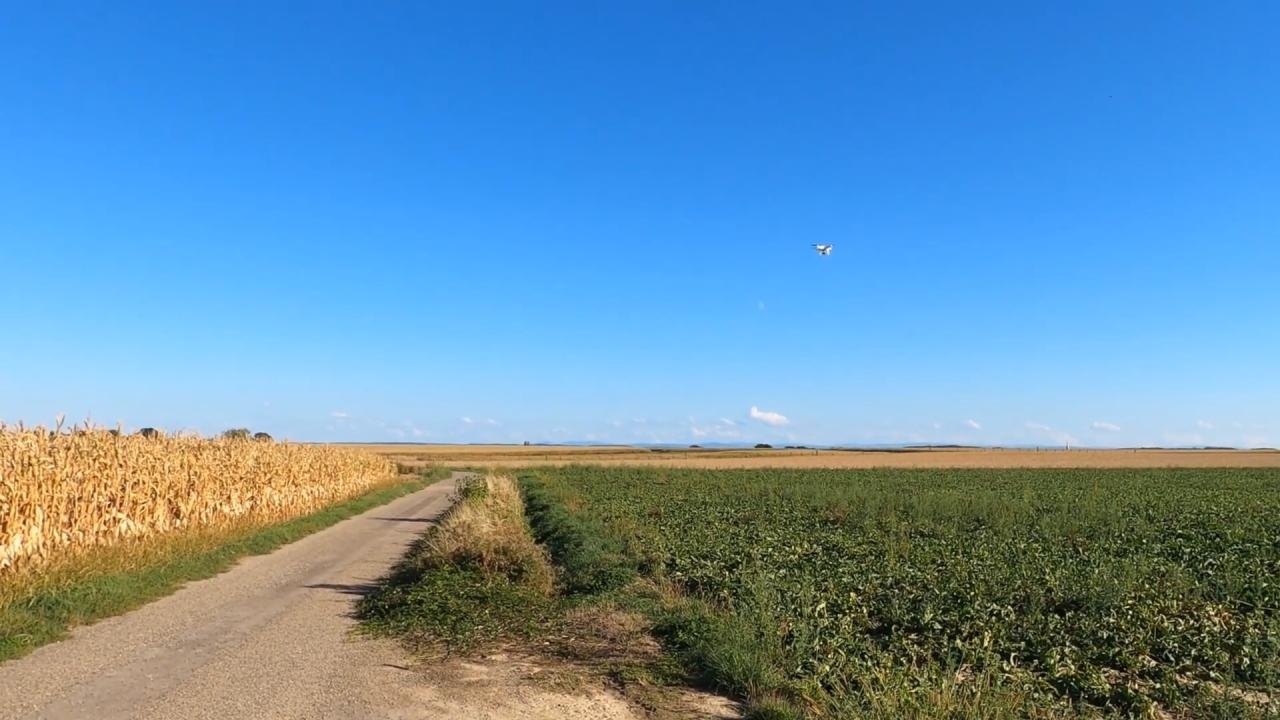Drone: (804, 230, 844, 267)
